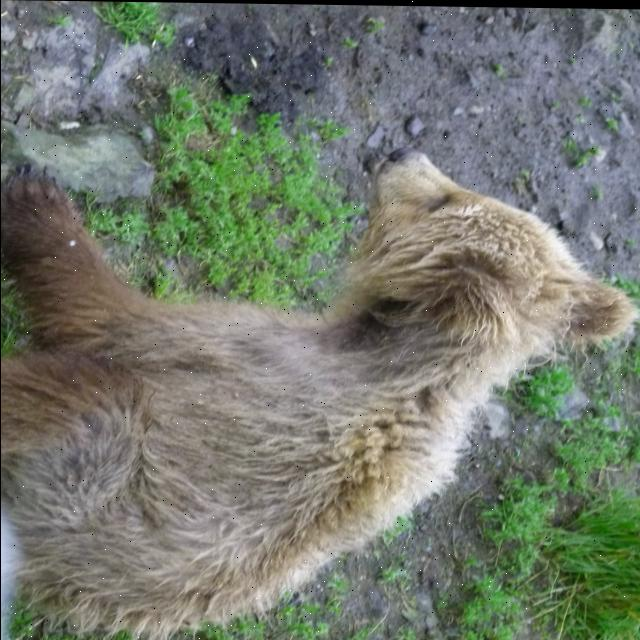bear face: (0, 144, 640, 635)
